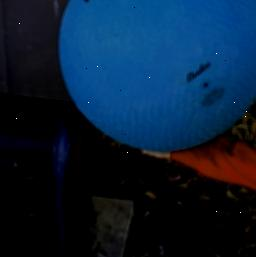algae: (62, 0, 256, 152)
